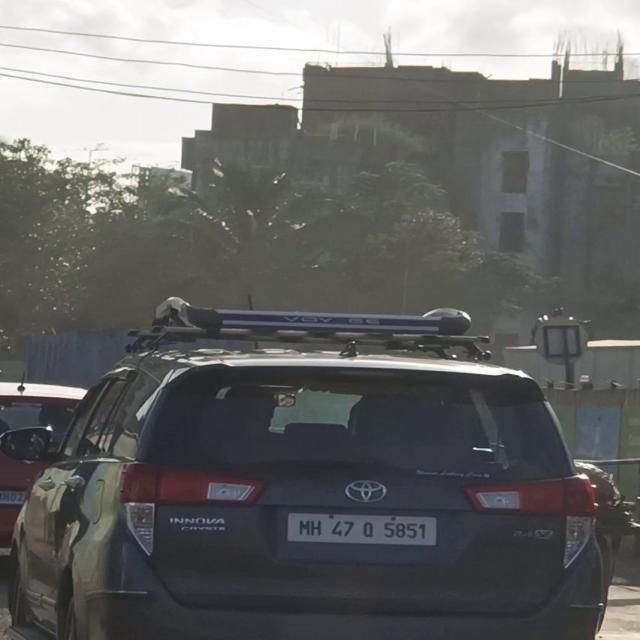Plate: (287, 513, 438, 548)
